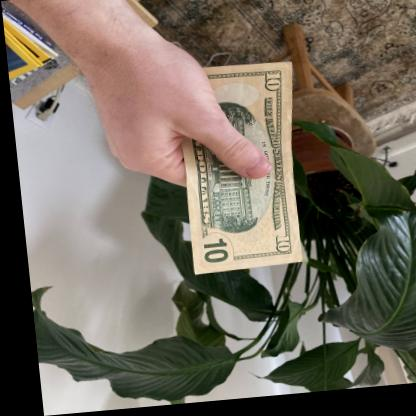ten-back: (165, 64, 306, 278)
